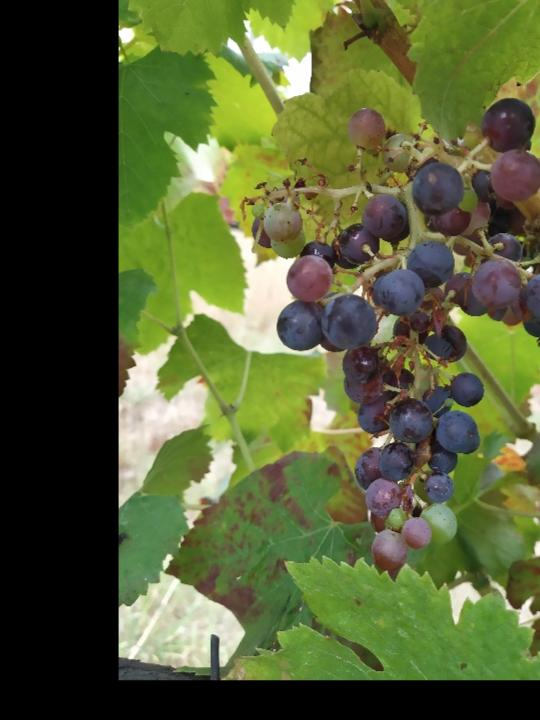grape: (239, 96, 540, 571)
